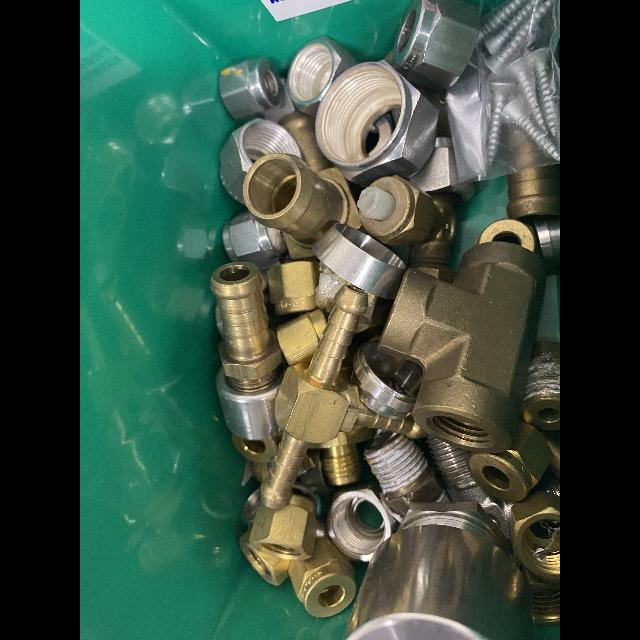Brass: (260, 285, 427, 507), (378, 242, 542, 452), (243, 113, 364, 260), (358, 175, 456, 281), (211, 263, 283, 388), (467, 424, 560, 504), (239, 498, 320, 584), (510, 494, 560, 626), (369, 436, 442, 513), (287, 538, 354, 617), (520, 340, 560, 431), (311, 427, 372, 484), (277, 311, 327, 367), (267, 262, 317, 316), (507, 167, 560, 217), (231, 433, 280, 481), (477, 220, 534, 253), (356, 292, 378, 333)
Stainless Steel: (346, 503, 530, 640), (343, 80, 439, 187), (391, 0, 480, 92), (431, 441, 509, 535), (312, 223, 406, 299), (220, 120, 299, 201), (287, 36, 356, 116), (327, 487, 397, 561), (354, 341, 416, 420), (216, 367, 282, 440), (219, 57, 286, 120), (223, 211, 287, 270), (409, 137, 474, 195), (538, 220, 560, 261)
